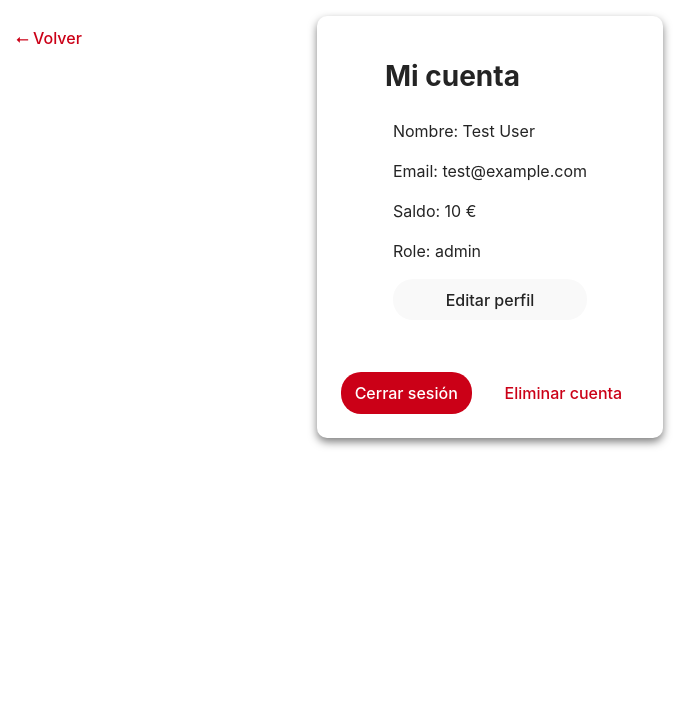
SeeProfile Component › shows edit profile form when 'Editar perfil' button is clicked
Click the button "Editar perfil".
click(490, 300)  # box [393,279,587,320]
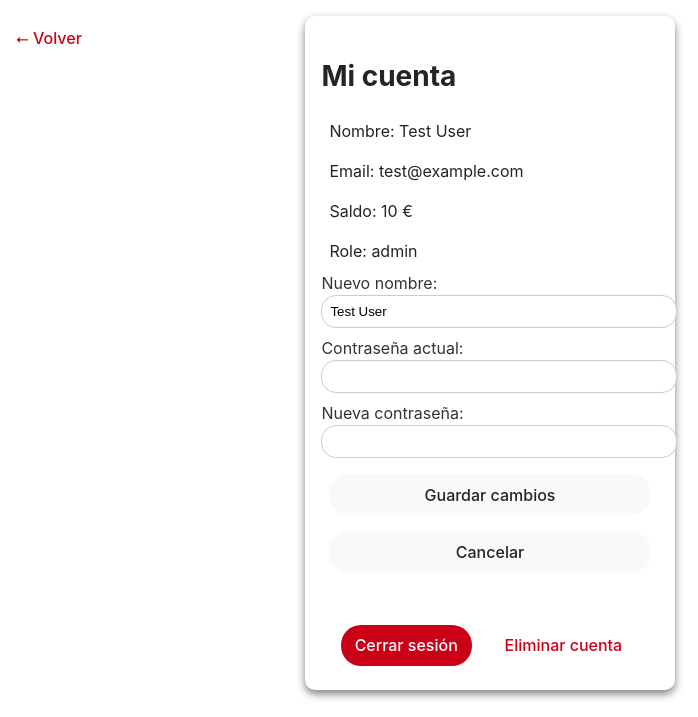
Check: the field labelled "Nuevo nombre:" is shown, box [321,295,677,328]
Check: the password field labelled "Nueva contraseña:" is shown, box [321,425,677,458]
Check: the button "Guardar cambios" is shown, box [329,474,651,515]
